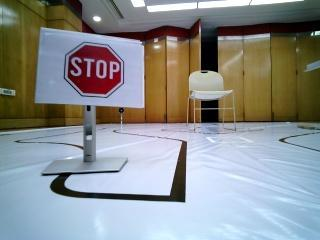stop: (35, 30, 142, 107)
